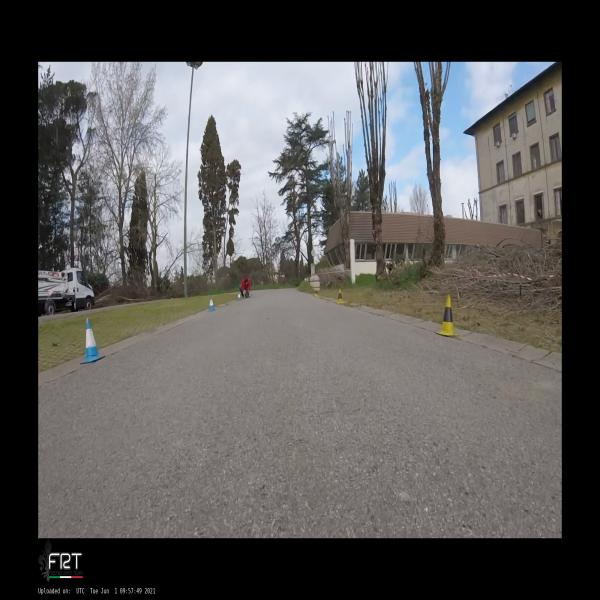blue_cone: (80, 318, 105, 364), (208, 296, 216, 311), (238, 293, 241, 300)
yellow_cone: (435, 294, 460, 337), (335, 288, 344, 304), (314, 288, 317, 296)
